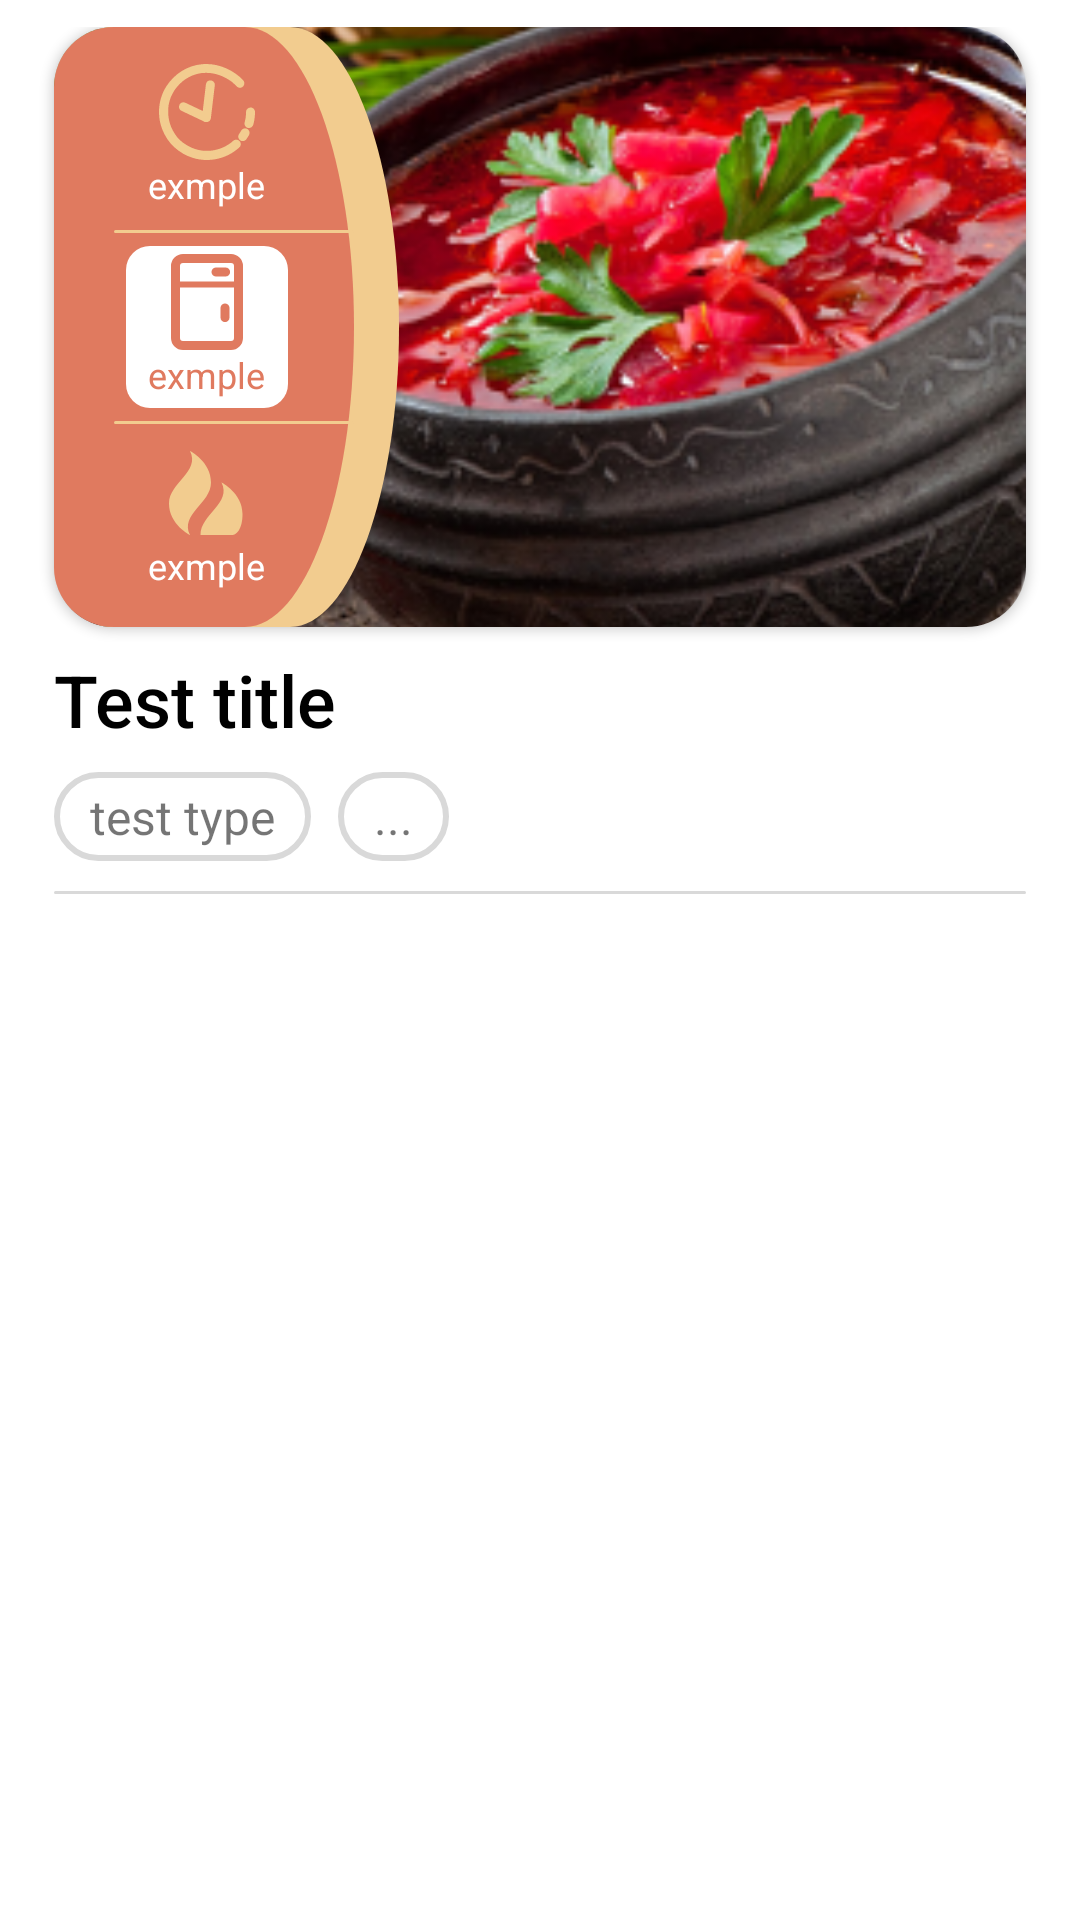

Icon click points for this 1080x1920 phone screenshot, format (x,y):
average time: (207,112)
fridge: (207,302)
kkal: (206,493)
